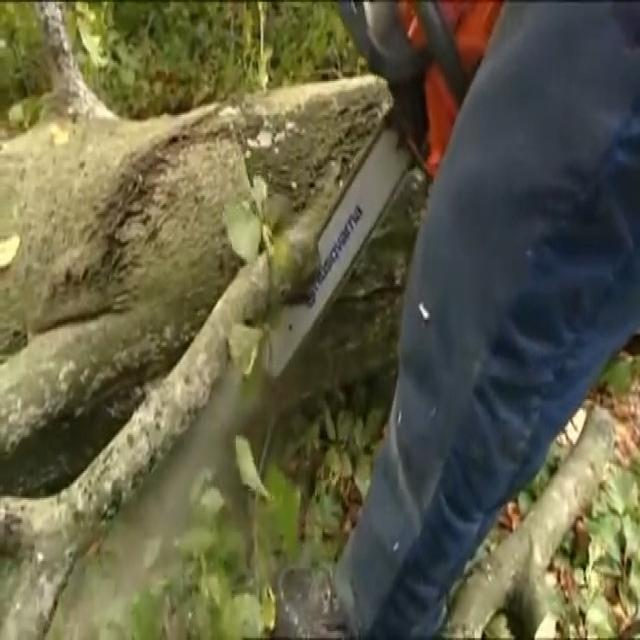Chainsaw: (246, 0, 506, 421)
